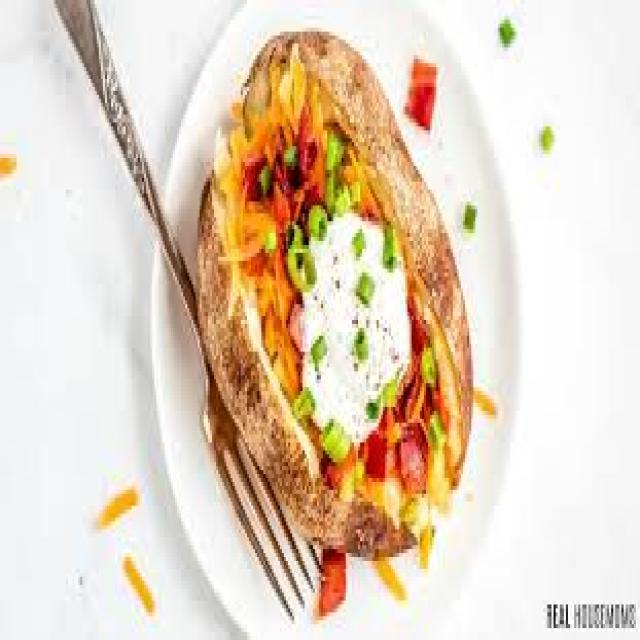Baked Potato: (215, 106, 482, 550)
